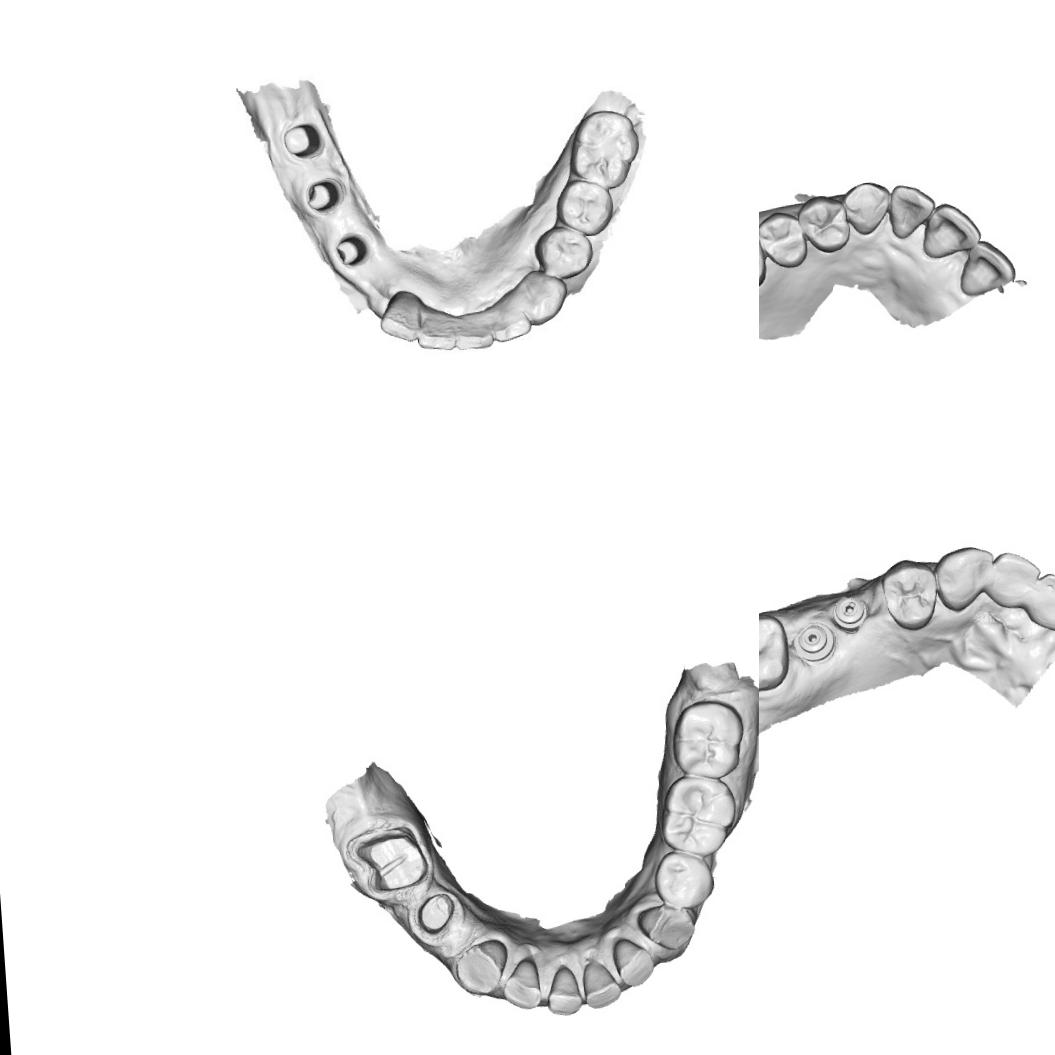abutment: (278, 118, 324, 162), (328, 226, 371, 269), (298, 176, 341, 215)
canine: (930, 543, 998, 615), (452, 936, 510, 1001), (634, 902, 702, 954), (841, 178, 894, 236), (524, 276, 567, 327)
crown: (350, 827, 434, 902), (410, 888, 460, 939)
implant: (791, 619, 836, 662)
implant_minus: (830, 592, 870, 632)
incisor: (917, 198, 982, 260), (955, 236, 1018, 299), (984, 548, 1044, 610), (885, 181, 938, 238), (608, 934, 658, 990), (496, 954, 543, 1012), (376, 287, 420, 345), (578, 956, 625, 1010), (542, 961, 584, 1018), (412, 307, 457, 356), (1023, 568, 1055, 632), (490, 299, 536, 342), (452, 312, 496, 352)
molar: (654, 772, 742, 862), (667, 696, 749, 784), (564, 104, 640, 190), (759, 612, 791, 694)
premolar: (878, 556, 939, 632), (650, 846, 717, 912), (553, 176, 614, 237), (796, 192, 852, 254), (532, 224, 592, 280), (759, 208, 809, 269)
